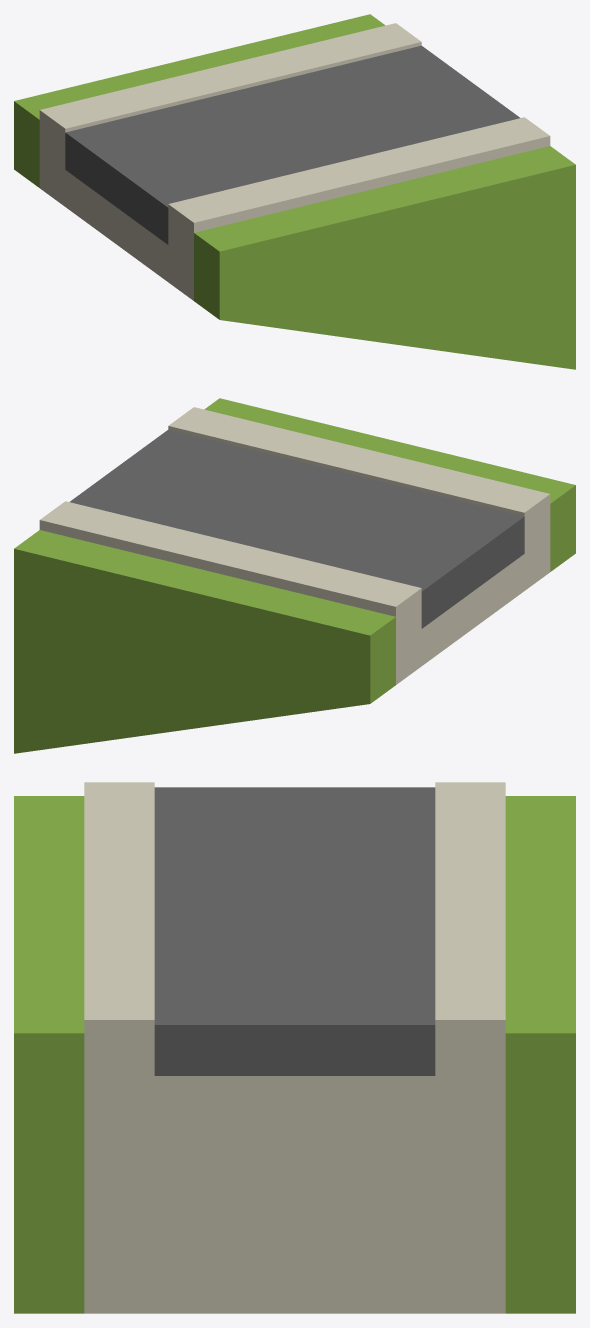
The model's file is roadTile_164.obj.
The picture shows the model from 3 angles, top to bottom: view 1: azimuth 30°, elevation 25°; view 2: azimuth 150°, elevation 25°; view 3: azimuth 270°, elevation 25°; orthographic projection. The views are drawn at different scales.
Parts seen in each view (by area): view 1: Mesh1_Group1_Model.163; view 2: Mesh1_Group1_Model.163; view 3: Mesh1_Group1_Model.163.
Boxes of the visible parts, x1,y1,x2,y2 form: Mesh1_Group1_Model.163: (14,14,575,369); Mesh1_Group1_Model.163: (14,398,575,753); Mesh1_Group1_Model.163: (14,782,575,1313).
Size of the model in its own units: 3 by 1.73 by 3.
